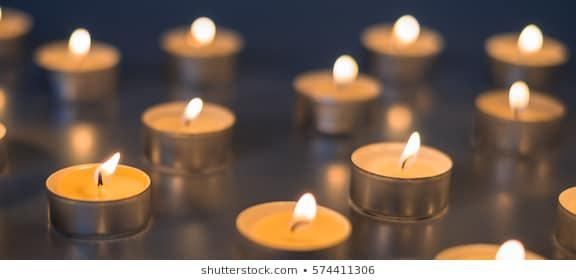fire: (290, 189, 318, 228), (399, 126, 422, 168), (94, 148, 121, 181), (181, 96, 202, 120)
